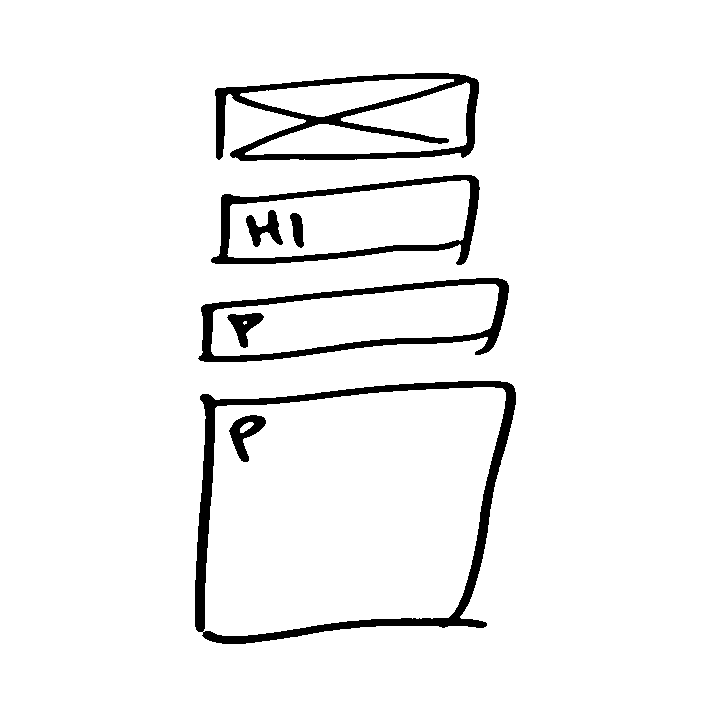heading1: (208, 173, 482, 269)
paragraph: (190, 376, 517, 650), (193, 275, 512, 365)
picture: (208, 70, 486, 168)
